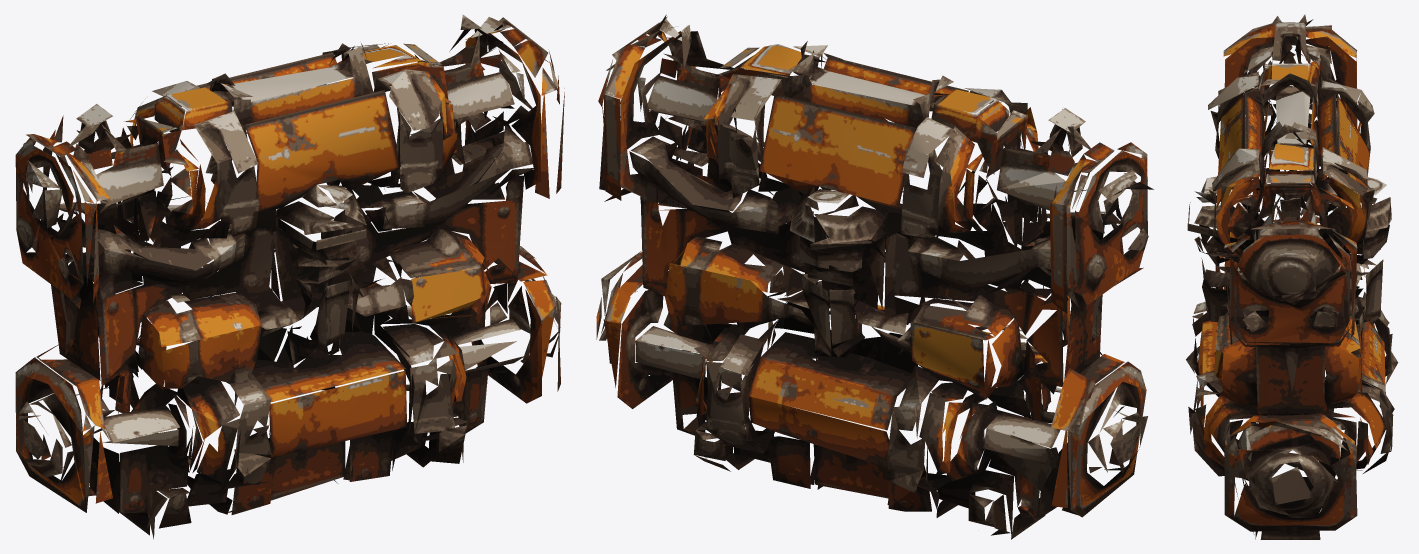
The model's file is mo_ram.glb.
3 renders of one model, left to right at view 1: azimuth 30°, elevation 25°; view 2: azimuth 150°, elevation 25°; view 3: azimuth 270°, elevation 25°, orthographic. The views are drawn at different scales.
Parts seen in each view (by area): view 1: mo_ram; view 2: mo_ram; view 3: mo_ram.
Part boxes in pixels (x1,y1,x2,y2): mo_ram: (15, 15, 564, 539); mo_ram: (596, 14, 1153, 539); mo_ram: (1186, 14, 1398, 539).
Size of the model in its own units: 0.2 by 0.1567 by 0.0824.
Materials: 1 (1 with a texture image).
